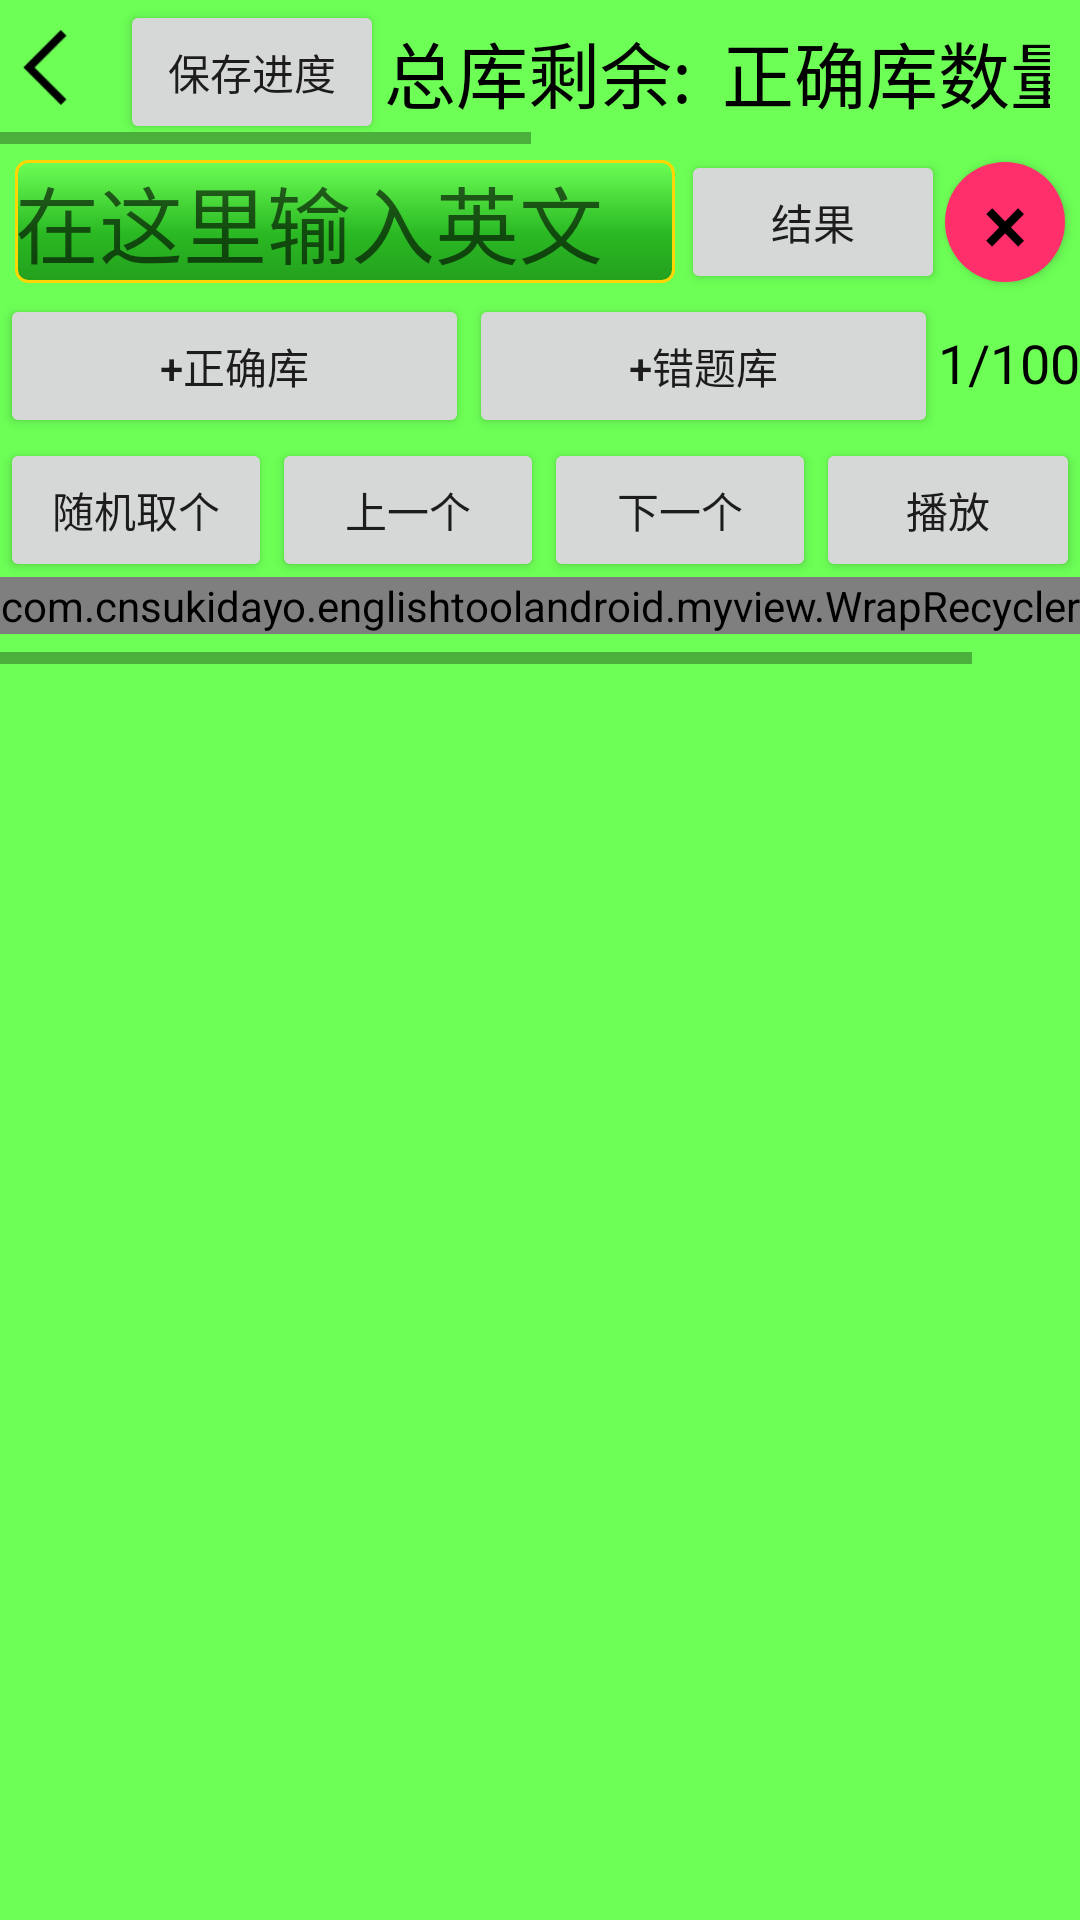

Where to tap for icons on this 1080w x 1920h app screen, as point (x, y):
back: point (60, 67)
